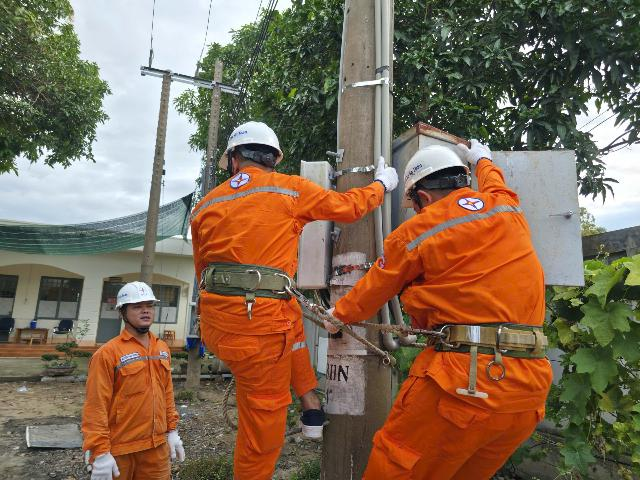gloves: (159, 428, 194, 466), (83, 448, 123, 480), (453, 138, 498, 165), (369, 158, 399, 191)
harness: (410, 308, 555, 369), (192, 253, 302, 309)
helmet: (397, 133, 474, 209), (204, 117, 297, 171), (110, 275, 161, 312)
shoes: (292, 398, 332, 441)
